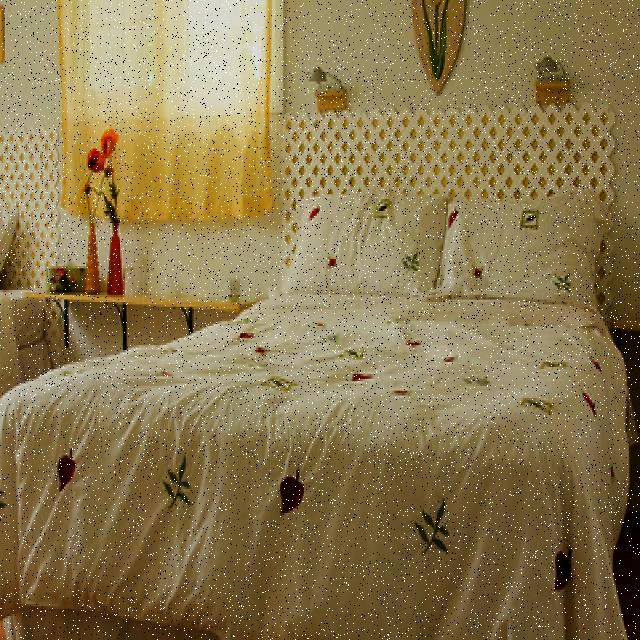bed: (20, 161, 616, 640)
